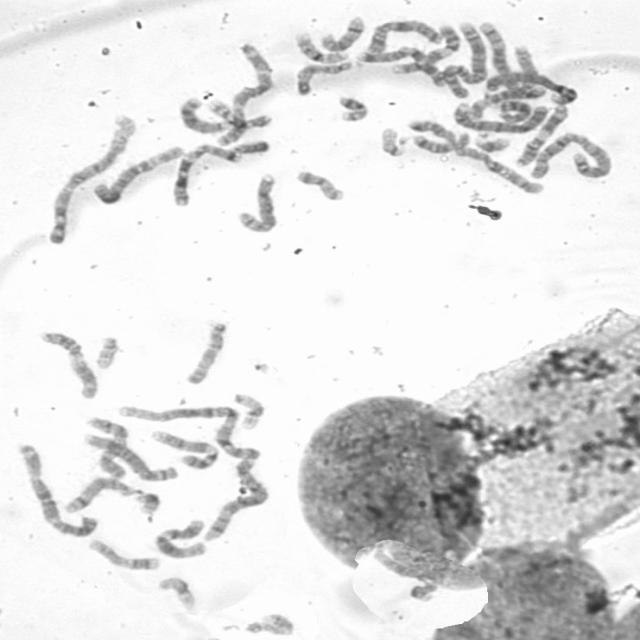A1: (42, 111, 138, 247), (113, 401, 263, 461)
A2: (524, 129, 616, 181), (438, 15, 491, 100)
A3: (13, 440, 100, 538), (210, 38, 274, 148)
B4: (478, 68, 580, 105), (448, 98, 552, 134)
B5: (199, 455, 273, 542), (475, 17, 526, 96)
C10: (451, 143, 546, 195), (81, 412, 131, 482)
C11: (36, 328, 100, 400), (510, 100, 572, 168)
C12: (372, 549, 439, 604), (151, 515, 208, 560)
C6: (87, 141, 185, 205), (468, 47, 547, 119)
C7: (168, 140, 242, 208), (354, 44, 448, 88)
C8: (80, 430, 182, 482), (234, 169, 282, 234)
C9: (387, 21, 463, 76), (147, 426, 221, 470)
D13: (175, 93, 231, 135), (494, 97, 533, 124)
D14: (60, 474, 137, 514), (316, 13, 367, 52)
D15: (180, 318, 229, 386), (291, 58, 355, 96)
E16: (290, 27, 351, 64), (206, 100, 272, 128)
E17: (84, 536, 162, 572), (239, 610, 297, 637)
E18: (405, 118, 466, 154), (419, 130, 473, 158)
F19: (153, 574, 198, 611), (230, 389, 267, 431)
F20: (292, 166, 347, 202), (334, 92, 371, 122)
G21: (470, 130, 512, 154), (132, 488, 162, 515)
G22: (91, 332, 121, 370), (376, 124, 408, 158)
X: (362, 17, 445, 55)
Y: (227, 137, 271, 156)
